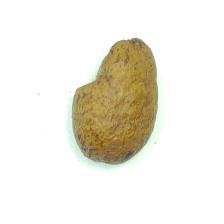NG: (73, 36, 139, 91)
